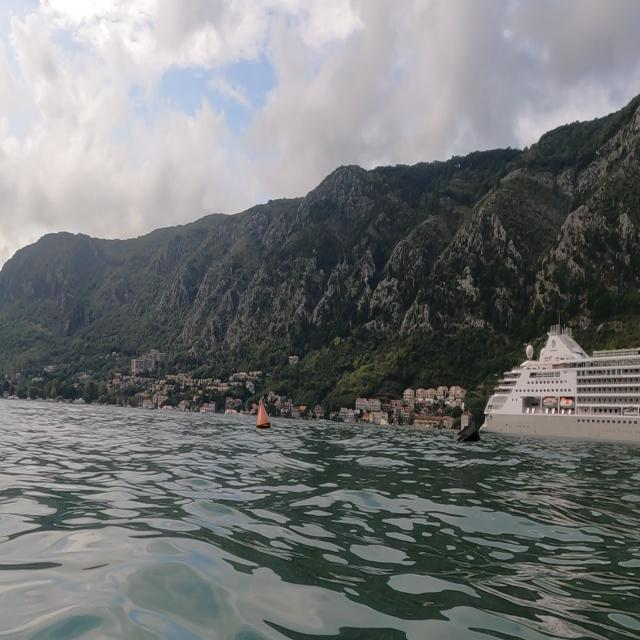boat: (478, 316, 638, 446)
buoy: (250, 389, 278, 441)
